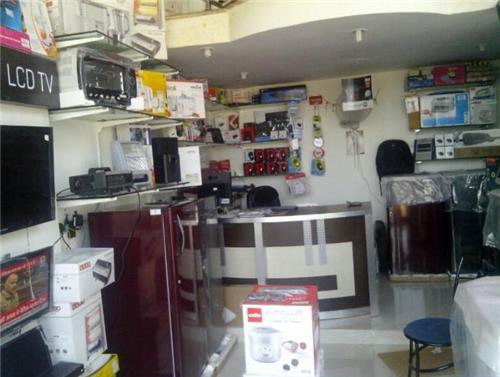Refrigerator: (120, 211, 210, 377)
